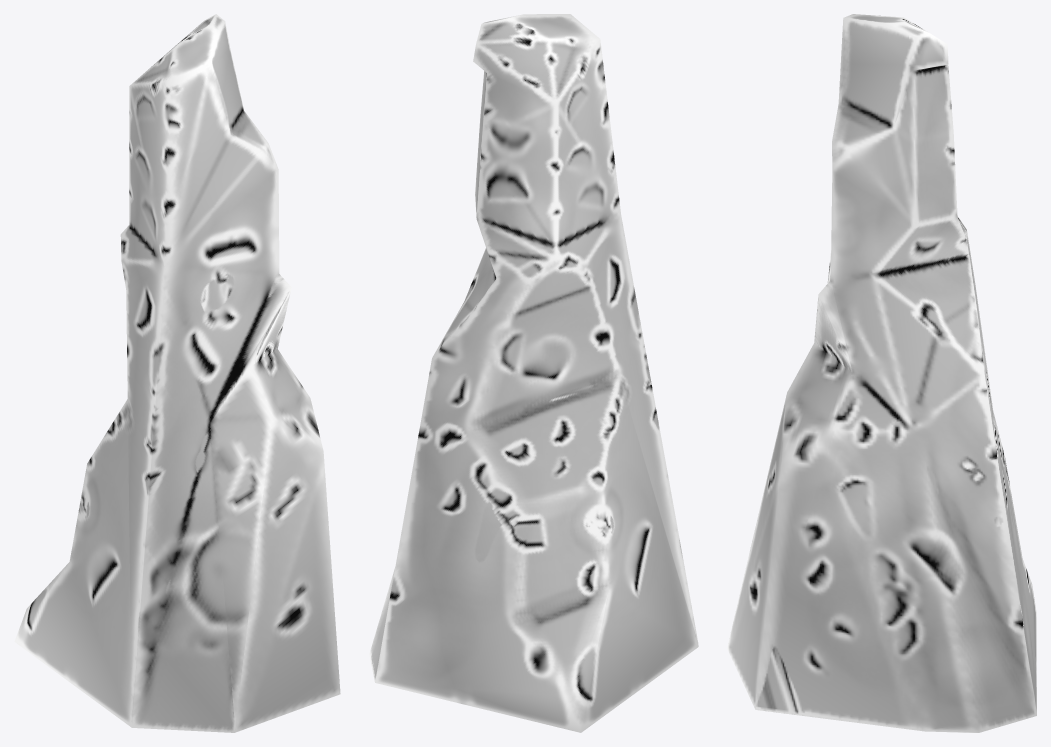
Rendered from rock_large_2.glb.
The picture shows the model from 3 angles, left to right: view 1: azimuth 30°, elevation 25°; view 2: azimuth 150°, elevation 25°; view 3: azimuth 270°, elevation 25°; orthographic projection. The views are drawn at different scales.
Parts seen in each view (by area): view 1: rock_big_2_prop-col; view 2: rock_big_2_prop-col; view 3: rock_big_2_prop-col.
Boxes of the visible parts, x1=… form: rock_big_2_prop-col: x1=14, y1=14, x2=340, y2=732; rock_big_2_prop-col: x1=369, y1=14, x2=698, y2=732; rock_big_2_prop-col: x1=727, y1=14, x2=1036, y2=732.
Size of the model in its own units: 4.12 by 10.46 by 4.47.
1 material, 1 textured.
